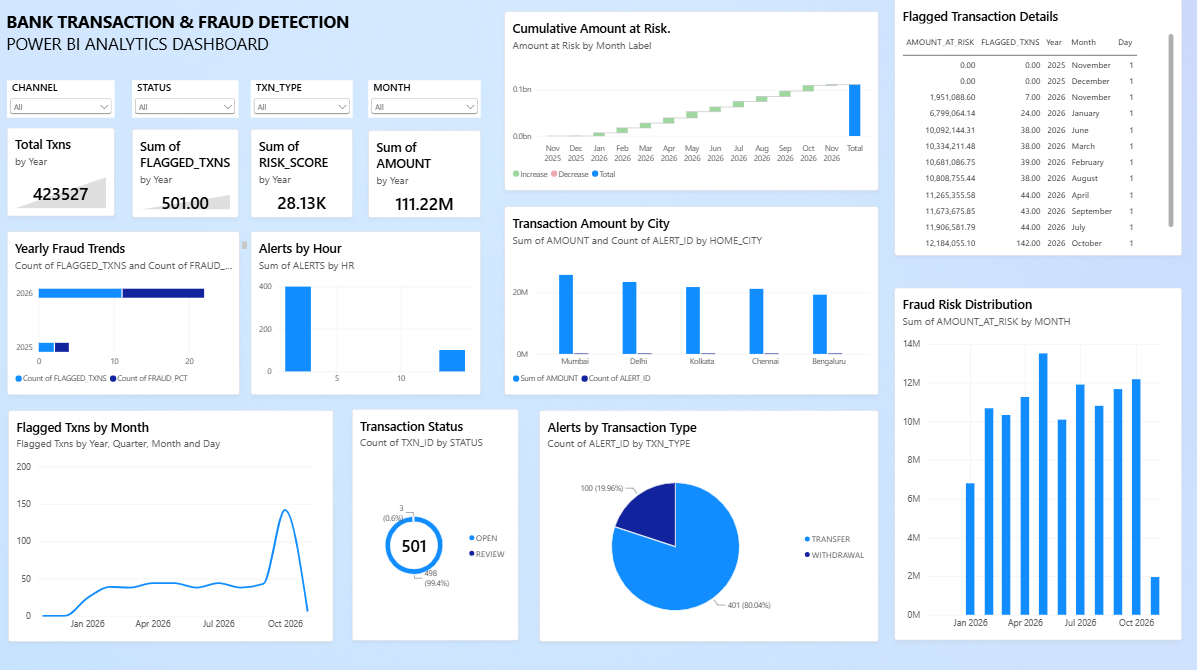

Layout of this report page (visuals, bound fields, positions):
{"tool":"powerbi","page":{"name":"Page 1","canvas":[1920,1080],"ordinal":0},"visuals":[{"type":"textbox","box":[10,0,110,58.3],"z":0},{"type":"donutChart","title":"Transaction Status","fields":{"Category":["alert_details.STATUS"],"Y":["CountNonNull(alert_details.TXN_ID)"]},"box":[568.3,656.7,266.7,370],"z":1000},{"type":"tableEx","title":"Flagged Transaction Details","fields":{"Values":["monthly_fraud.AMOUNT_AT_RISK","monthly_fraud.FLAGGED_TXNS","monthly_fraud.MONTH.Variation.Date Hierarchy.Year","monthly_fraud.MONTH.Variation.Date Hierarchy.Month","monthly_fraud.MONTH.Variation.Date Hierarchy.Day"]},"box":[1436,0,460,410],"z":2000},{"type":"slicer","fields":{"Values":["alert_details.CHANNEL"]},"box":[16.7,130,172,60],"z":3000},{"type":"slicer","fields":{"Values":["alert_details.STATUS"]},"box":[216.7,130,170,60],"z":4000},{"type":"slicer","fields":{"Values":["alert_details.TXN_TYPE"]},"box":[405,130,163.3,60],"z":5000},{"type":"slicer","fields":{"Values":["monthly_fraud.MONTH"]},"box":[593.3,130,180,60],"z":6000},{"type":"kpi","fields":{"Indicator":["monthly_fraud.Total Txns"],"TrendLine":["monthly_fraud.MONTH.Variation.Date Hierarchy.Year"]},"box":[16.7,206.7,171.7,141.7],"z":7000},{"type":"kpi","fields":{"Indicator":["Sum(monthly_fraud.FLAGGED_TXNS)"],"TrendLine":["monthly_fraud.MONTH.Variation.Date Hierarchy.Year"]},"box":[216.7,208.3,170,141.7],"z":8000},{"type":"kpi","fields":{"Indicator":["Sum(alert_details.RISK_SCORE)"],"TrendLine":["monthly_fraud.MONTH.Variation.Date Hierarchy.Year"]},"box":[405,208.3,163.3,141.7],"z":9000},{"type":"kpi","fields":{"Indicator":["Sum(alert_details.AMOUNT)"],"TrendLine":["monthly_fraud.MONTH.Variation.Date Hierarchy.Year"]},"box":[593.3,210,180,140],"z":10000},{"type":"barChart","title":"Yearly Fraud Trends","fields":{"Category":["monthly_fraud.MONTH.Variation.Date Hierarchy.Year","monthly_fraud.MONTH.Variation.Date Hierarchy.Quarter","monthly_fraud.MONTH.Variation.Date Hierarchy.Month","monthly_fraud.MONTH.Variation.Date Hierarchy.Day"],"Y":["CountNonNull(monthly_fraud.FLAGGED_TXNS)","CountNonNull(monthly_fraud.FRAUD_PCT)"]},"box":[15,371.7,371.7,261.7],"z":11000},{"type":"clusteredColumnChart","title":"Alerts by Hour","fields":{"Category":["hourly_alerts.HR"],"Y":["Sum(hourly_alerts.ALERTS)"]},"box":[405,371.7,368.3,261.7],"z":12000},{"type":"clusteredColumnChart","title":"Transaction Amount by City","fields":{"Category":["alert_details.HOME_CITY"],"Y":["Sum(alert_details.AMOUNT)","CountNonNull(alert_details.ALERT_ID)"]},"box":[811.7,331.7,598.3,301.7],"z":13000},{"type":"clusteredColumnChart","title":"Fraud Risk Distribution","fields":{"Category":["monthly_fraud.MONTH"],"Y":["Sum(monthly_fraud.AMOUNT_AT_RISK)"]},"box":[1436,462,460,564],"z":14000},{"type":"waterfallChart","title":"Cumulative Amount at Risk.","fields":{"Category":["monthly_fraud.Month Label"],"Y":["monthly_fraud.Amount at Risk"]},"box":[812,20,598,286],"z":15000},{"type":"textbox","box":[15,0,628.3,130],"z":16000},{"type":"textbox","box":[0,0,590,100],"z":17000},{"type":"lineChart","title":"Flagged Txns by Month","fields":{"Category":["monthly_fraud.MONTH.Variation.Date Hierarchy.Year","monthly_fraud.MONTH.Variation.Date Hierarchy.Quarter","monthly_fraud.MONTH.Variation.Date Hierarchy.Month","monthly_fraud.MONTH.Variation.Date Hierarchy.Day"],"Y":["monthly_fraud.Flagged Txns"]},"box":[17.5,657.5,520,370],"z":18000},{"type":"pieChart","title":"Alerts by Transaction Type","fields":{"Category":["alert_details.TXN_TYPE"],"Y":["CountNonNull(alert_details.ALERT_ID)"]},"box":[867.5,657.5,542.5,370],"z":19000},{"type":"textbox","box":[352,388,48,12],"z":20000},{"type":"textbox","box":[100,100,20,30],"z":21000}]}

Visuals, with their boxes in screenshot pixels (x1, y1, x2, y2), scaled from the page's 1920x1080 canvas onto the 1197x670 screenshot:
textbox: x1=6 y1=0 x2=75 y2=36
"Transaction Status" donutChart: x1=354 y1=407 x2=521 y2=637
"Flagged Transaction Details" tableEx: x1=895 y1=0 x2=1182 y2=254
slicer - alert_details.CHANNEL: x1=10 y1=81 x2=118 y2=118
slicer - alert_details.STATUS: x1=135 y1=81 x2=241 y2=118
slicer - alert_details.TXN_TYPE: x1=252 y1=81 x2=354 y2=118
slicer - monthly_fraud.MONTH: x1=370 y1=81 x2=482 y2=118
kpi - monthly_fraud.Total Txns x monthly_fraud.MONTH.Variation.Date Hierarchy.Year: x1=10 y1=128 x2=117 y2=216
kpi - Sum(monthly_fraud.FLAGGED_TXNS) x monthly_fraud.MONTH.Variation.Date Hierarchy.Year: x1=135 y1=129 x2=241 y2=217
kpi - Sum(alert_details.RISK_SCORE) x monthly_fraud.MONTH.Variation.Date Hierarchy.Year: x1=252 y1=129 x2=354 y2=217
kpi - Sum(alert_details.AMOUNT) x monthly_fraud.MONTH.Variation.Date Hierarchy.Year: x1=370 y1=130 x2=482 y2=217
"Yearly Fraud Trends" barChart: x1=9 y1=231 x2=241 y2=393
"Alerts by Hour" clusteredColumnChart: x1=252 y1=231 x2=482 y2=393
"Transaction Amount by City" clusteredColumnChart: x1=506 y1=206 x2=879 y2=393
"Fraud Risk Distribution" clusteredColumnChart: x1=895 y1=287 x2=1182 y2=636
"Cumulative Amount at Risk." waterfallChart: x1=506 y1=12 x2=879 y2=190
textbox: x1=9 y1=0 x2=401 y2=81
textbox: x1=0 y1=0 x2=368 y2=62
"Flagged Txns by Month" lineChart: x1=11 y1=408 x2=335 y2=637
"Alerts by Transaction Type" pieChart: x1=541 y1=408 x2=879 y2=637
textbox: x1=219 y1=241 x2=249 y2=248
textbox: x1=62 y1=62 x2=75 y2=81
